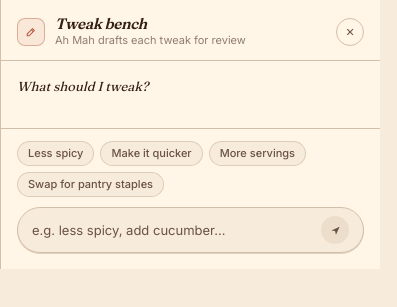
Scenario: TweakBench tolerant response parsing › shows a friendly message (not raw JSON) for a truncated response
This screenshot has width=397, height=307.
What coordinates should you click on to do the following:
click the button "Less spicy"
I would click on:
 (56, 154)
Its box is [17, 141, 94, 166].
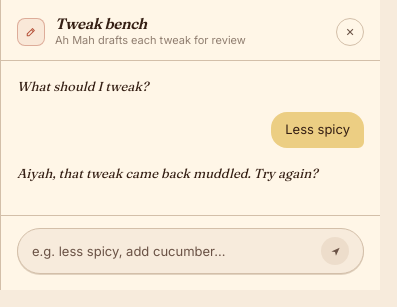
Result: the text "Aiyah, that tweak came back muddled. Try again?" is shown at [17, 164, 364, 183]
